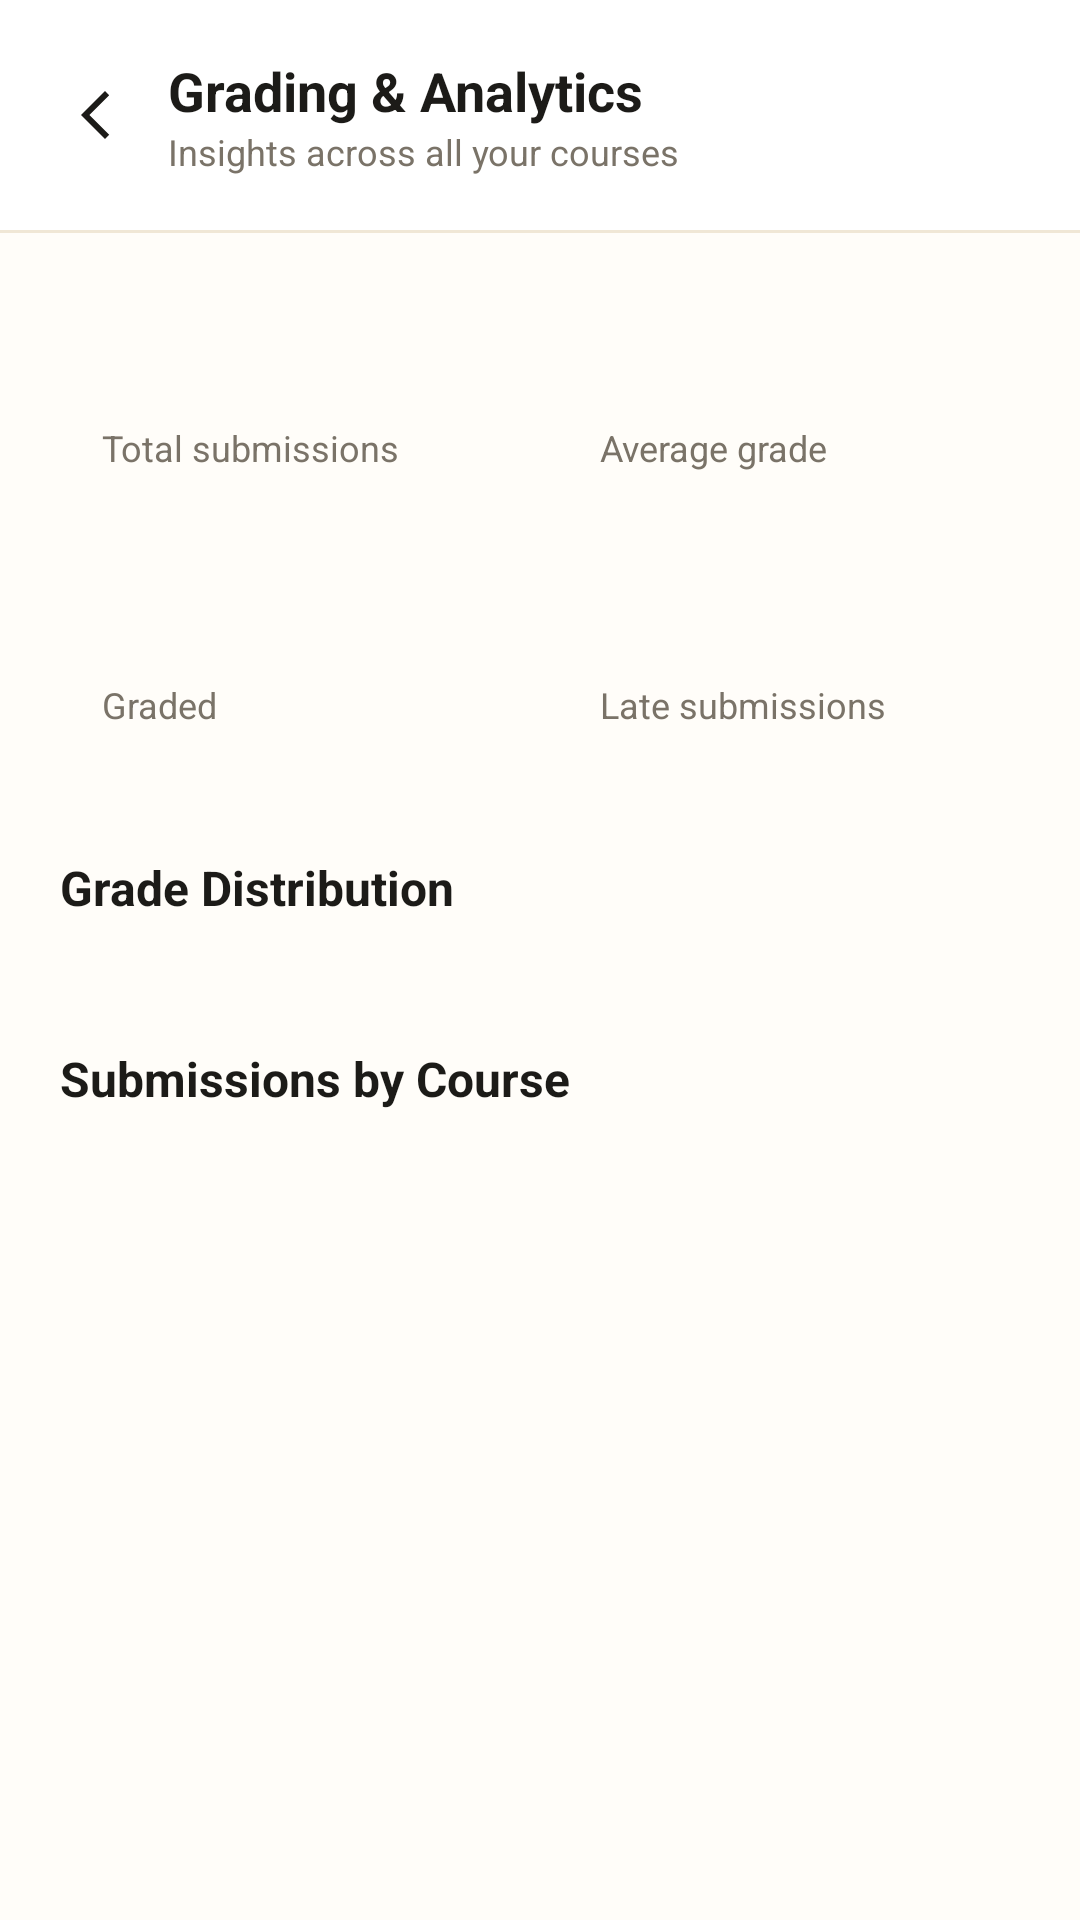

Where icons sit on this 1080×1920 app screen, as bbox(x1, y1, x2, y2):
Back: bbox(81, 91, 109, 139)
